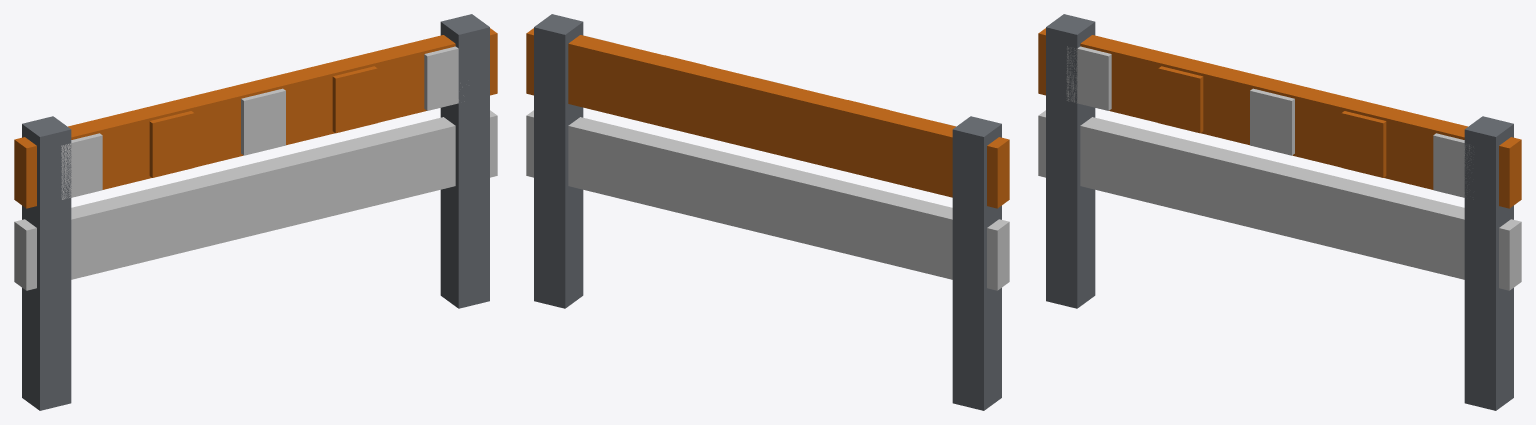
Rendered from barrier.glb.
3 renders of one model, left to right at view 1: azimuth 30°, elevation 25°; view 2: azimuth 150°, elevation 25°; view 3: azimuth 330°, elevation 25°, orthographic.
Parts seen in each view (by area): view 1: barrier; view 2: barrier; view 3: barrier.
Boxes of the visible parts, x1,y1,x2,y2 form: barrier: (14,14,497,410); barrier: (526,14,1009,410); barrier: (1038,14,1521,410).
Bounding box in the file's own units: 1.8 × 1 × 0.12.
